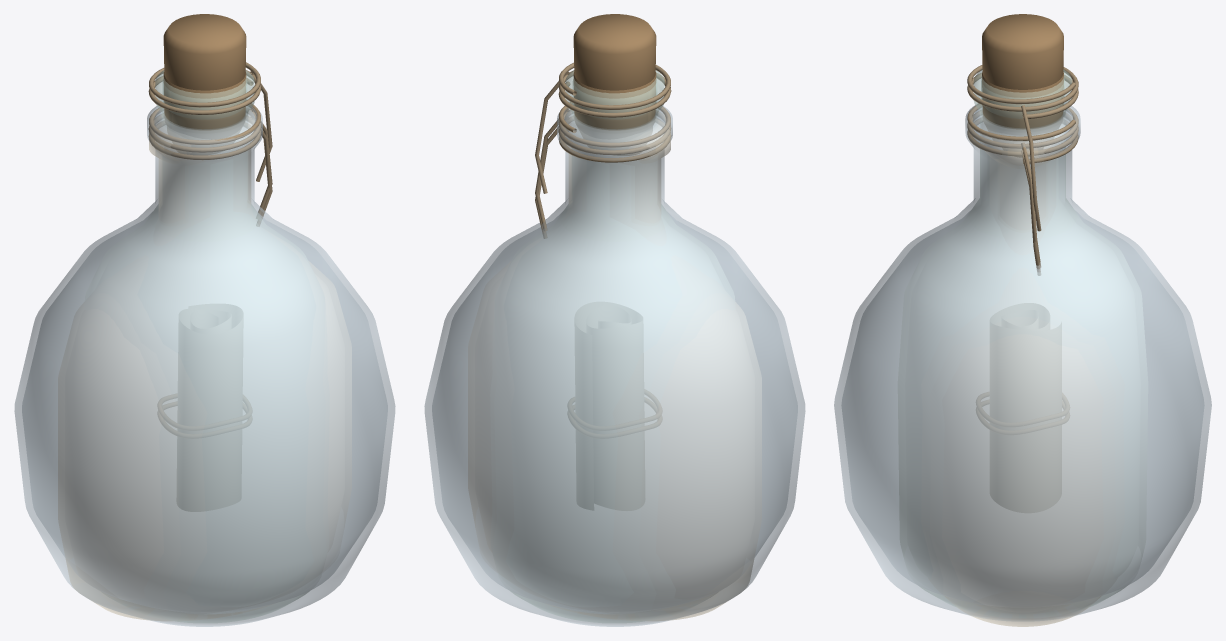
The model's file is sea-bottles.glb.
3 views of the same model, side by side, from view 1: azimuth 30°, elevation 25°; view 2: azimuth 150°, elevation 25°; view 3: azimuth 270°, elevation 25° (orthographic).
Parts seen in each view (by area): view 1: Glass_1, Glass_0, Glass_2, RolledPaper_2, Cork_0, Cork_1, NeckCord_0, NeckCord_2, NeckCord_1, PaperTie_21; view 2: Glass_1, Glass_0, Glass_2, RolledPaper_2, Cork_0, Cork_1, NeckCord_0, NeckCord_2, NeckCord_1, LooseHemp_0, PaperTie_21; view 3: Glass_1, Glass_2, Glass_0, RolledPaper_2, Cork_0, Cork_1, NeckCord_0, NeckCord_2, NeckCord_1, LooseHemp_0, PaperTie_21.
Part boxes in pixels (x1=…): Glass_1: x1=14, y1=106, x2=395, y2=626; Glass_0: x1=85, y1=70, x2=316, y2=622; Glass_2: x1=58, y1=115, x2=351, y2=620; RolledPaper_2: x1=177, y1=304, x2=242, y2=511; Cork_0: x1=163, y1=14, x2=246, y2=90; Cork_1: x1=163, y1=72, x2=246, y2=146; NeckCord_0: x1=148, y1=62, x2=261, y2=114; NeckCord_2: x1=148, y1=108, x2=261, y2=160; NeckCord_1: x1=148, y1=103, x2=261, y2=152; PaperTie_21: x1=158, y1=394, x2=251, y2=430; Glass_1: x1=424, y1=106, x2=805, y2=626; Glass_0: x1=503, y1=70, x2=734, y2=622; Glass_2: x1=468, y1=115, x2=761, y2=620; RolledPaper_2: x1=575, y1=302, x2=644, y2=510; Cork_0: x1=573, y1=14, x2=656, y2=90; Cork_1: x1=573, y1=72, x2=656, y2=149; NeckCord_0: x1=558, y1=62, x2=671, y2=117; NeckCord_2: x1=559, y1=110, x2=671, y2=162; NeckCord_1: x1=558, y1=102, x2=671, y2=155; LooseHemp_0: x1=535, y1=71, x2=569, y2=193; PaperTie_21: x1=568, y1=390, x2=661, y2=430; Glass_1: x1=834, y1=102, x2=1211, y2=621; Glass_2: x1=942, y1=139, x2=1103, y2=626; Glass_0: x1=898, y1=70, x2=1147, y2=617; RolledPaper_2: x1=990, y1=303, x2=1061, y2=512; Cork_0: x1=982, y1=14, x2=1063, y2=89; Cork_1: x1=982, y1=71, x2=1063, y2=142; NeckCord_0: x1=967, y1=65, x2=1078, y2=119; NeckCord_2: x1=967, y1=110, x2=1078, y2=163; NeckCord_1: x1=967, y1=104, x2=1078, y2=155; LooseHemp_0: x1=1021, y1=105, x2=1041, y2=231; PaperTie_21: x1=976, y1=392, x2=1069, y2=426.
Size of the model in its own units: 0.92 by 1.47 by 0.92.
